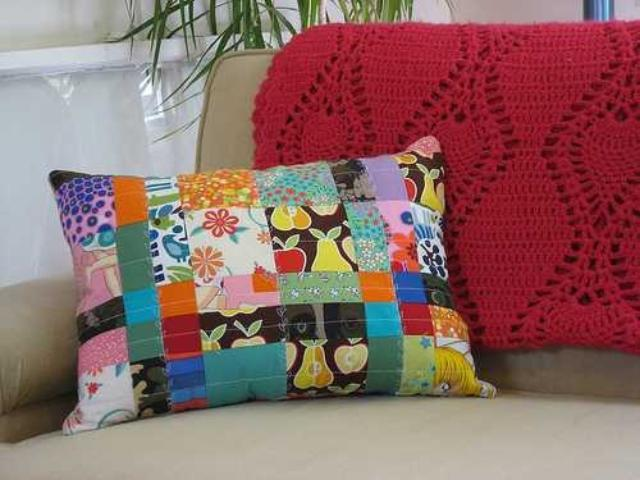pillow: (46, 134, 498, 436)
